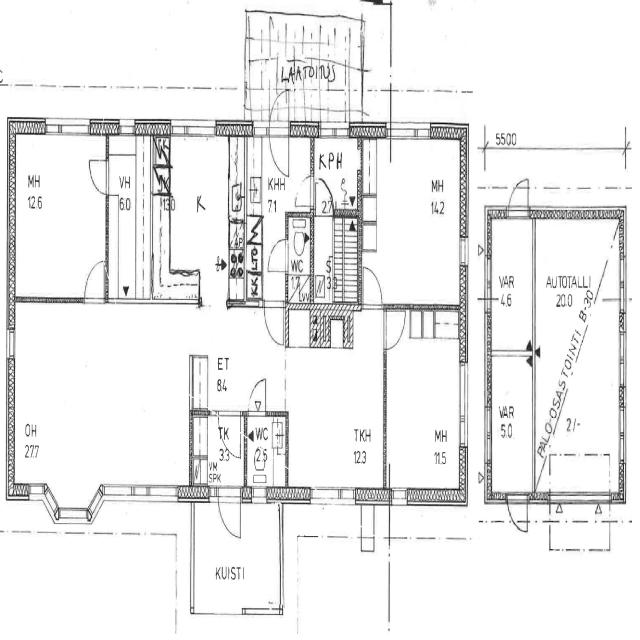door: (268, 90, 290, 177), (217, 484, 244, 542), (218, 410, 245, 462), (80, 254, 108, 304), (262, 297, 287, 348), (360, 260, 385, 310), (381, 306, 408, 352), (506, 174, 531, 220), (505, 490, 530, 536), (86, 153, 111, 197), (247, 374, 269, 418), (266, 234, 288, 274), (293, 172, 314, 212), (314, 173, 334, 215)
window: (456, 359, 471, 448), (133, 479, 179, 506), (44, 115, 90, 139), (308, 484, 348, 510), (173, 118, 216, 142), (616, 310, 628, 392), (42, 480, 62, 527), (490, 340, 531, 361), (86, 481, 105, 525), (616, 401, 629, 465), (482, 401, 494, 469), (617, 252, 628, 312), (542, 437, 554, 492), (482, 247, 492, 301), (28, 478, 48, 504), (4, 325, 17, 362), (117, 116, 136, 137), (458, 231, 468, 270)
zone: (14, 298, 383, 498), (541, 208, 623, 503), (152, 130, 286, 304), (362, 136, 465, 306), (10, 130, 109, 302), (383, 310, 465, 499), (105, 132, 153, 302), (487, 353, 535, 495), (488, 212, 534, 353), (313, 212, 361, 307), (313, 132, 361, 212), (245, 413, 288, 491), (286, 211, 312, 300), (246, 269, 263, 303)
